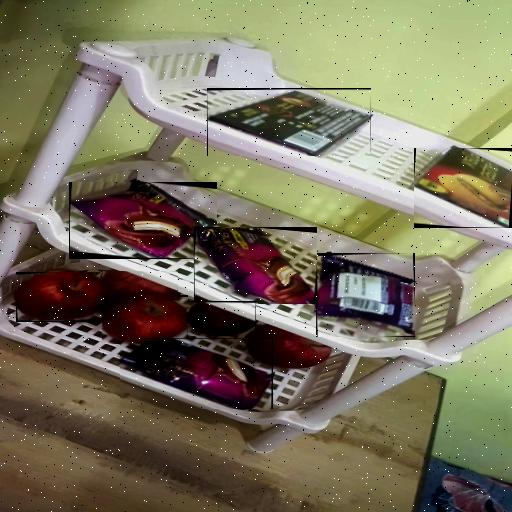Apple: (16, 272, 110, 322), (102, 295, 188, 344), (244, 325, 330, 369), (187, 301, 256, 336), (102, 272, 178, 300)
Choco Fills: (207, 88, 371, 156), (414, 148, 512, 228)
Choco Pie: (69, 182, 217, 259), (120, 338, 273, 409), (194, 227, 317, 304), (316, 253, 415, 337)
